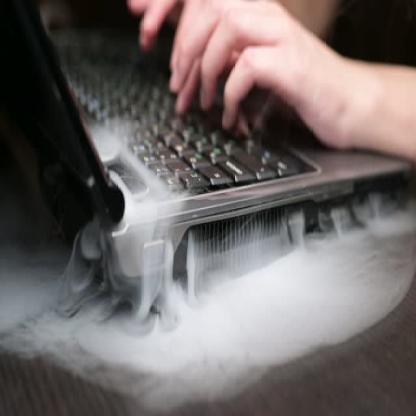smoke: (0, 118, 415, 416)
